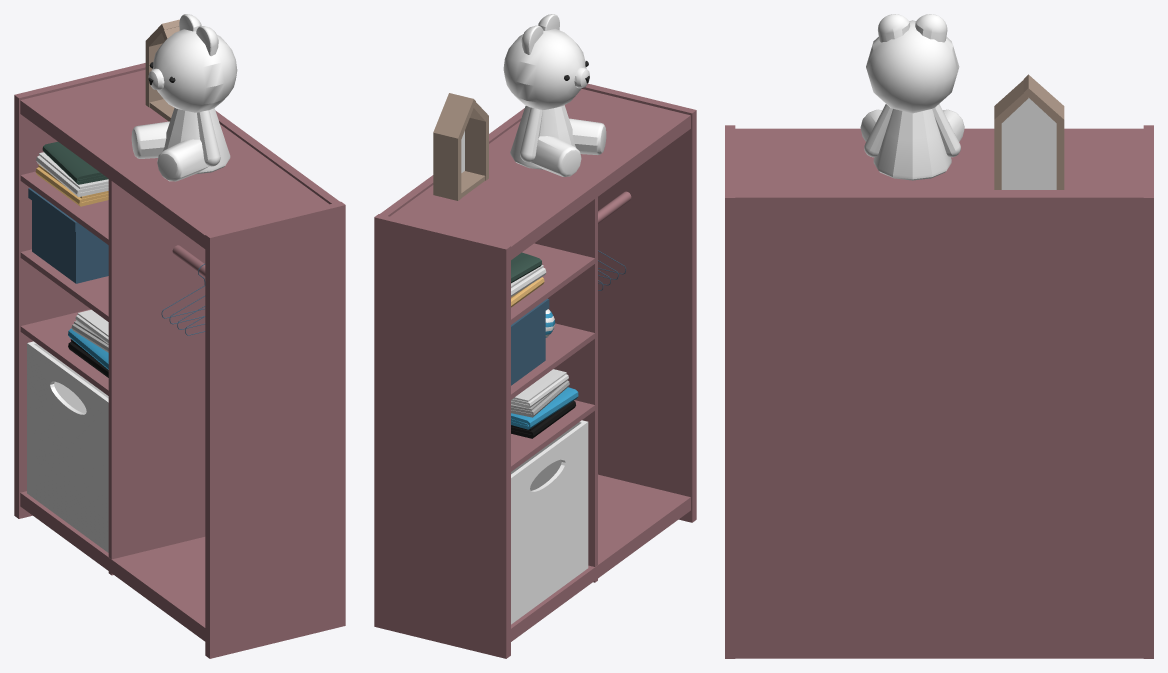
Rendered from Furn1_chest_color2_joined.fbx.
3 views of the same model, side by side, from view 1: azimuth 30°, elevation 25°; view 2: azimuth 150°, elevation 25°; view 3: azimuth 270°, elevation 25° (orthographic). The views are drawn at different scales.
Visible parts, largest first — view 1: Куб.065; view 2: Куб.065; view 3: Куб.065.
Part boxes in pixels (<box>): Куб.065: <box>14,14,345,658</box>; Куб.065: <box>374,14,696,658</box>; Куб.065: <box>725,14,1153,658</box>.
Size of the model in its own units: 119 by 468 by 298.
